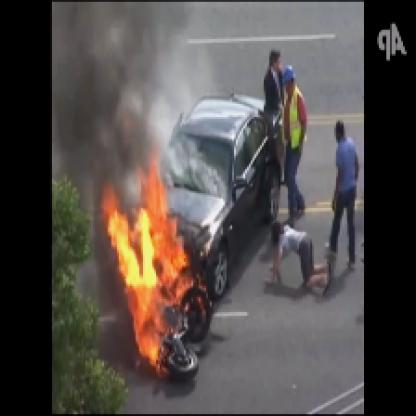Fire: (108, 149, 210, 386)
Smoke: (58, 3, 174, 172)
